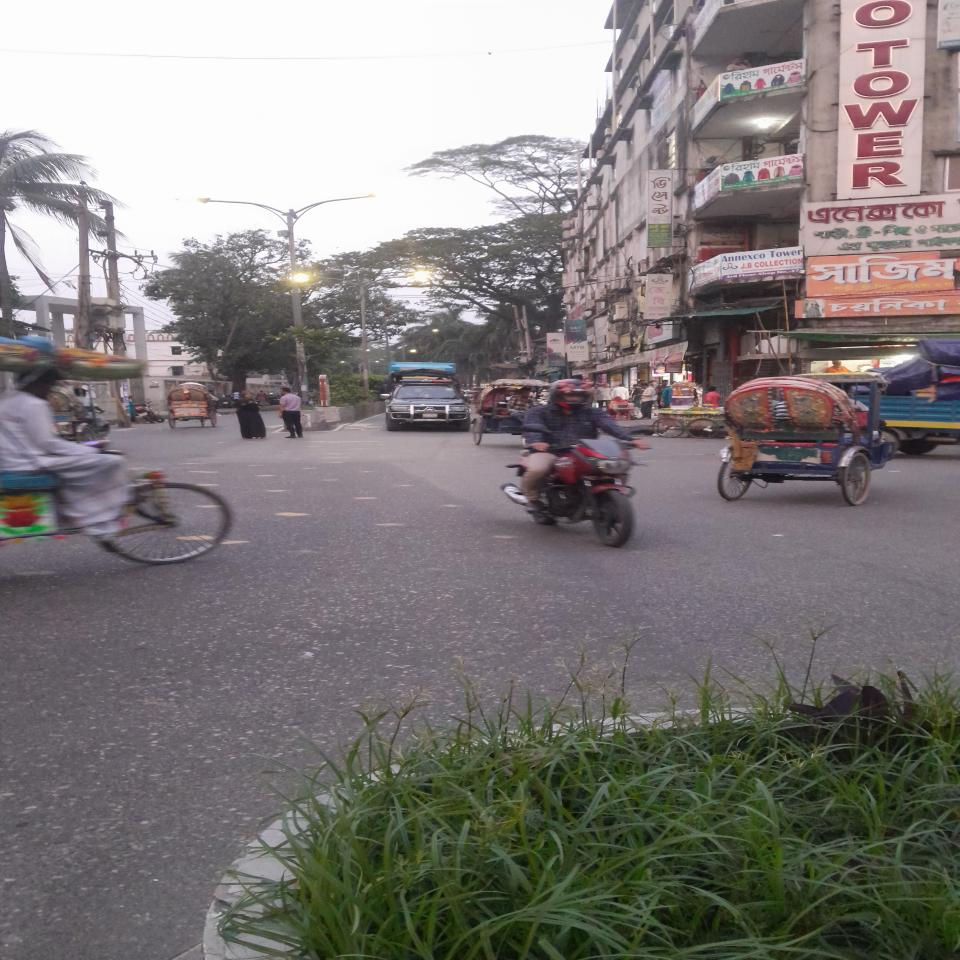person: (236, 391, 267, 439), (280, 388, 302, 439)
